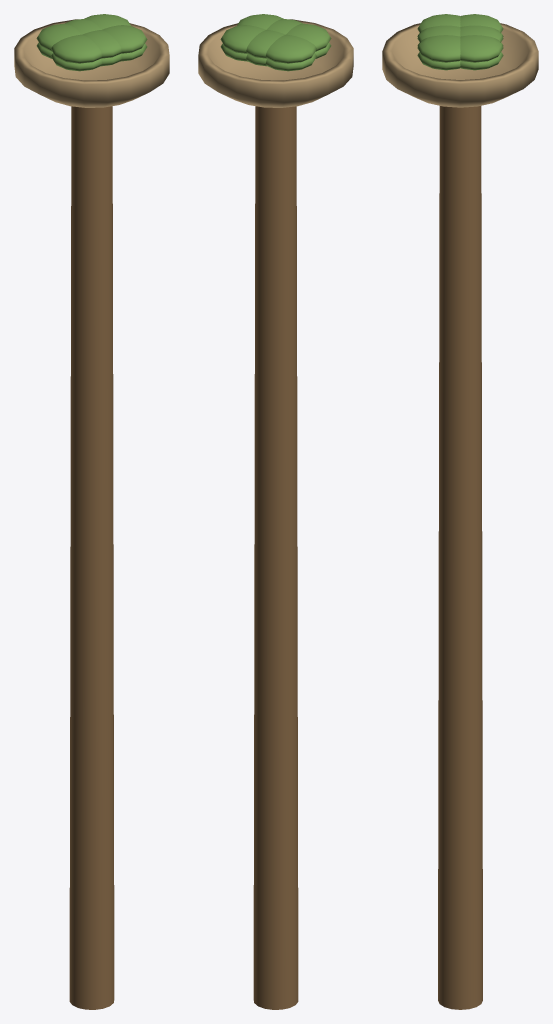
Rendered from fixture-giraffe-browse-v01.glb.
The picture shows the model from 3 angles, left to right: view 1: azimuth 30°, elevation 25°; view 2: azimuth 150°, elevation 25°; view 3: azimuth 270°, elevation 25°; orthographic projection.
Visible parts, largest first — view 1: bowl-support, bowl, portion-9, portion-11, portion-6, portion-10, portion-8, portion-3; view 2: bowl-support, bowl, portion-6, portion-8, portion-9, portion-7, portion-11, portion-0; view 3: bowl-support, bowl, portion-8, portion-11, portion-6, portion-9, portion-7, portion-10.
Part boxes in pixels (x1,y1,x2,y2): bowl-support: (69, 106, 114, 1009); bowl: (14, 19, 169, 107); portion-9: (51, 34, 101, 63); portion-11: (102, 25, 147, 53); portion-6: (36, 23, 81, 51); portion-10: (82, 30, 121, 58); portion-8: (84, 14, 130, 29); portion-3: (51, 53, 102, 71); bowl-support: (253, 106, 298, 1009); bowl: (198, 19, 353, 107); portion-6: (266, 34, 316, 63); portion-8: (220, 25, 265, 53); portion-9: (286, 23, 331, 51); portion-7: (246, 30, 285, 58); portion-11: (237, 14, 283, 29); portion-0: (265, 53, 316, 71); bowl-support: (438, 106, 482, 1009); bowl: (382, 23, 538, 107); portion-8: (460, 35, 503, 62); portion-11: (417, 35, 460, 62); portion-6: (460, 14, 503, 33); portion-9: (417, 14, 460, 33); portion-7: (460, 25, 503, 42); portion-10: (417, 25, 460, 42).
Size of the model in its own units: 0.38 by 2.61 by 0.38.
